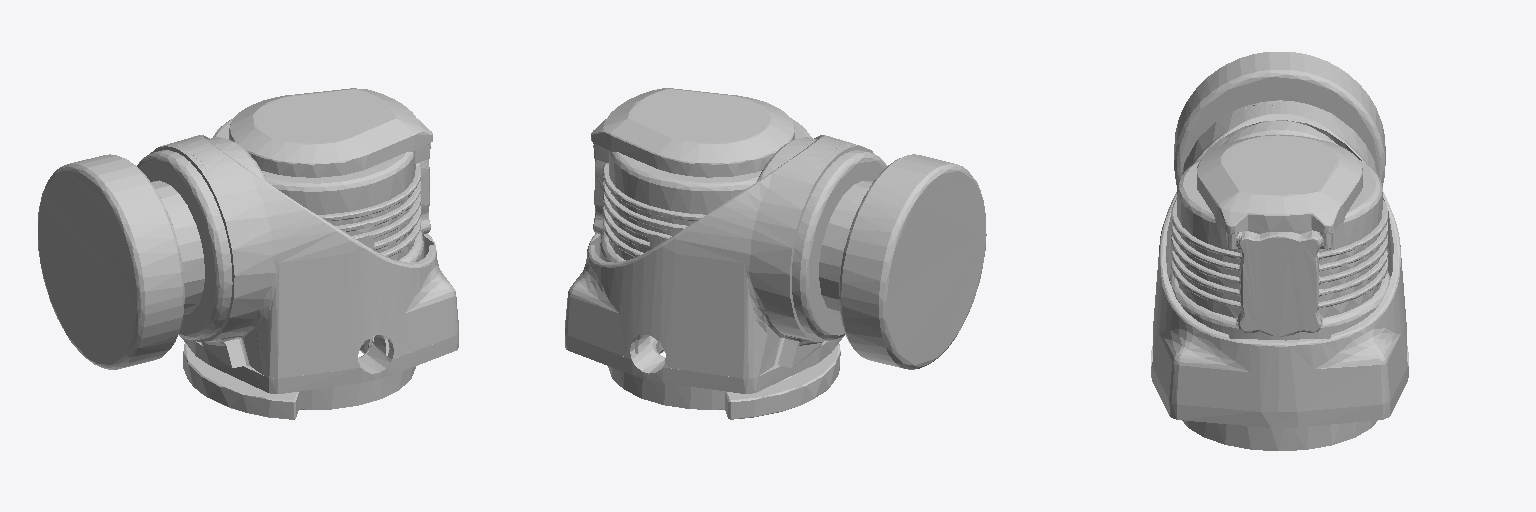
The model's file is front_right_hip.obj.
The picture shows the model from 3 angles: view 1: azimuth 30°, elevation 25°; view 2: azimuth 150°, elevation 25°; view 3: azimuth 270°, elevation 25°; orthographic projection.
Parts seen in each view (by area): view 1: _2-042137-001-A00_TOP_LEVEL_DEFEATURED_-_NOT_FOR_PRODUCTION_007; view 2: _2-042137-001-A00_TOP_LEVEL_DEFEATURED_-_NOT_FOR_PRODUCTION_007; view 3: _2-042137-001-A00_TOP_LEVEL_DEFEATURED_-_NOT_FOR_PRODUCTION_007.
Part boxes in pixels (x1,y1,x2,y2): _2-042137-001-A00_TOP_LEVEL_DEFEATURED_-_NOT_FOR_PRODUCTION_007: (38, 88, 458, 419); _2-042137-001-A00_TOP_LEVEL_DEFEATURED_-_NOT_FOR_PRODUCTION_007: (565, 88, 986, 419); _2-042137-001-A00_TOP_LEVEL_DEFEATURED_-_NOT_FOR_PRODUCTION_007: (1151, 52, 1408, 450).
Size of the model in its own units: 0.1417 by 0.1 by 0.0941.